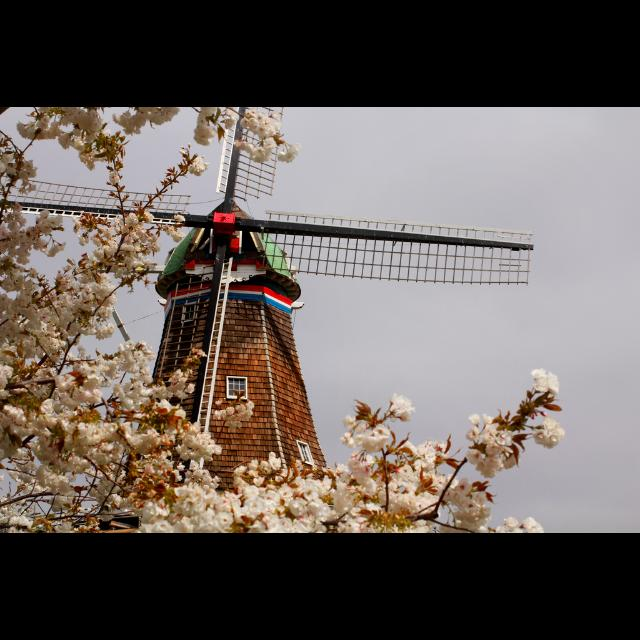Flower: (0, 371, 542, 534), (0, 107, 298, 369), (533, 418, 565, 452), (531, 367, 559, 395)
